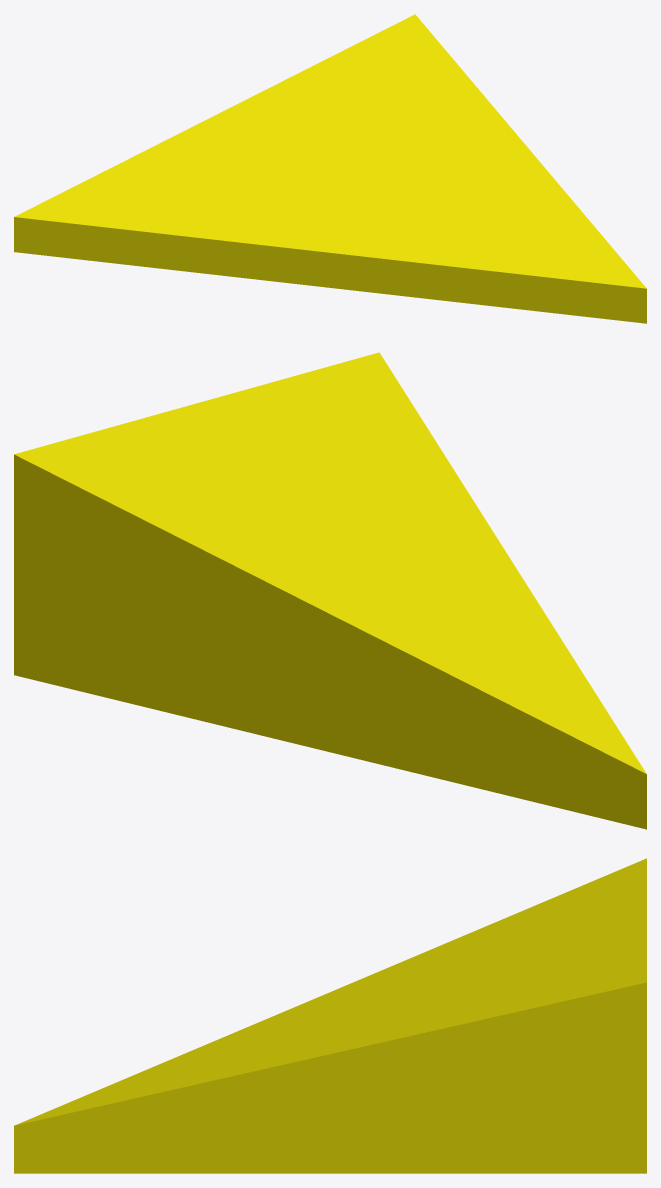
Rendered from corner_corner_90.fbx.
3 views of the same model, one above another, from view 1: azimuth 30°, elevation 25°; view 2: azimuth 150°, elevation 25°; view 3: azimuth 270°, elevation 25° (orthographic). The views are drawn at different scales.
Visible parts, largest first — view 1: Box001.001; view 2: Box001.001; view 3: Box001.001.
Boxes of the visible parts, left/top/right/bottom form: Box001.001: left=14, top=14, right=646, bottom=323; Box001.001: left=14, top=352, right=646, bottom=829; Box001.001: left=14, top=858, right=646, bottom=1173.
Bounding box in the file's own units: 120 × 40 × 120.
